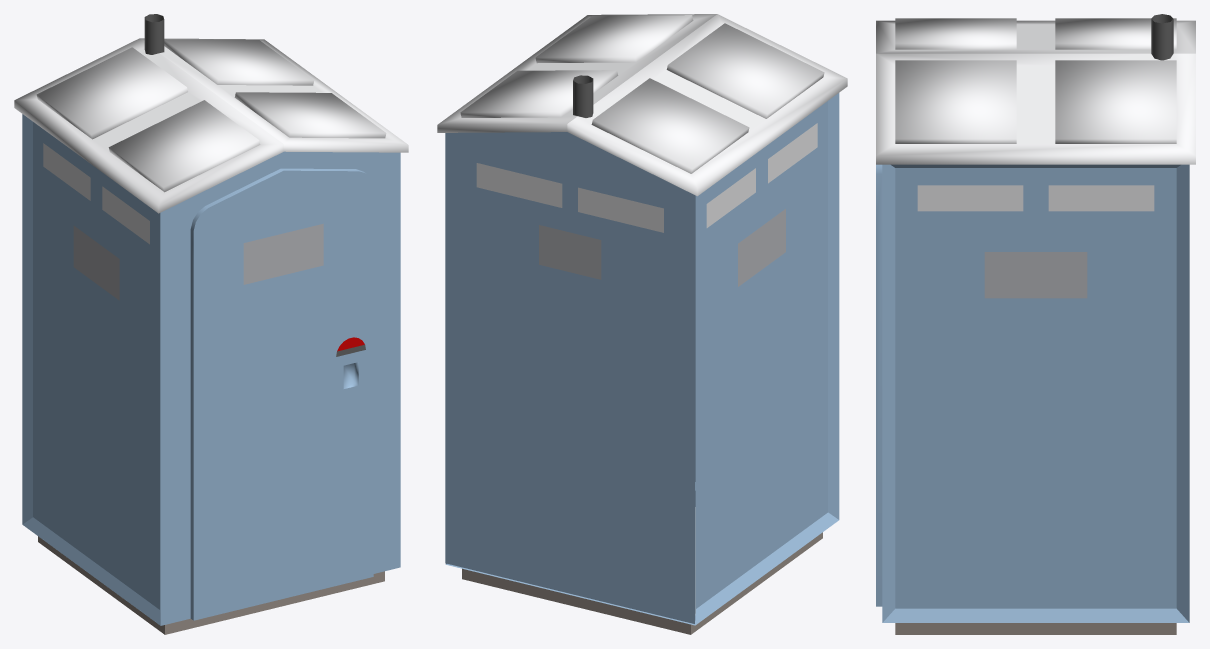
3 views of the same model, side by side, from view 1: azimuth 30°, elevation 25°; view 2: azimuth 150°, elevation 25°; view 3: azimuth 270°, elevation 25° (orthographic). The views are drawn at different scales.
Visible parts, largest first — view 1: ID32, ID188, ID196, ID204, ID180, ID170, ID122, Portable_Toilet, ID66, ID76, ID58, ID92; view 2: ID138, ID32, ID188, ID196, ID204, ID180, ID170, Portable_Toilet, ID146, ID154, ID162, ID66 (+3 smaller); view 3: ID32, ID188, ID180, ID170, ID84, ID196, Portable_Toilet, ID204, ID50, ID40, ID92.
Boxes of the visible parts, x1,y1,x2,y2 form: ID32: (22, 114, 400, 625); ID188: (14, 38, 408, 213); ID196: (108, 100, 260, 192); ID204: (36, 47, 187, 139); ID180: (234, 92, 386, 138); ID170: (164, 39, 314, 85); ID122: (243, 223, 323, 284); Portable_Toilet: (38, 536, 384, 634); ID66: (73, 225, 119, 300); ID76: (102, 186, 149, 244); ID58: (43, 143, 90, 200); ID92: (144, 14, 164, 54); ID138: (445, 132, 694, 623); ID32: (445, 93, 839, 625); ID188: (437, 14, 847, 196); ID196: (666, 23, 824, 118); ID204: (591, 78, 749, 173); ID180: (535, 15, 693, 63); ID170: (460, 70, 618, 117); Portable_Toilet: (462, 491, 822, 634); ID146: (539, 225, 601, 279); ID154: (476, 163, 562, 207); ID162: (578, 187, 663, 232); ID66: (738, 209, 785, 286); ID32: (876, 164, 1189, 622); ID188: (876, 20, 1195, 164); ID180: (895, 60, 1016, 143); ID170: (1055, 60, 1176, 143); ID84: (984, 252, 1087, 298); ID196: (895, 18, 1016, 49); Portable_Toilet: (895, 623, 1176, 634); ID204: (1055, 18, 1176, 49); ID50: (917, 185, 1023, 211); ID40: (1048, 185, 1154, 211); ID92: (1151, 14, 1173, 60).
Size of the model in its own units: 1.27 by 2.44 by 1.27.
